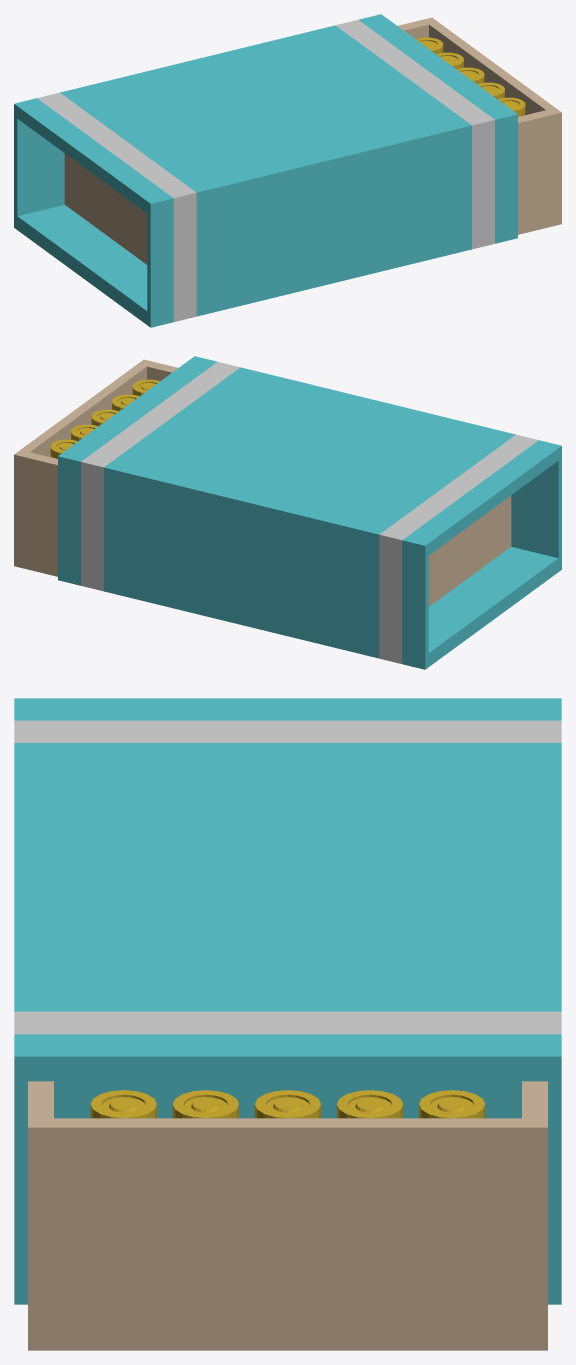
The model's file is 45 ammo.fbx.
3 renders of one model, top to bottom at view 1: azimuth 30°, elevation 25°; view 2: azimuth 150°, elevation 25°; view 3: azimuth 270°, elevation 25°, orthographic. The views are drawn at different scales.
Parts seen in each view (by area): view 1: Ammo .45 ACP; view 2: Ammo .45 ACP; view 3: Ammo .45 ACP.
Boxes of the visible parts, x1,y1,x2,y2 form: Ammo .45 ACP: (14, 14, 561, 327); Ammo .45 ACP: (14, 356, 561, 669); Ammo .45 ACP: (14, 698, 561, 1350).
Bounding box in the file's own units: 67.2 × 19.2 × 38.4.
